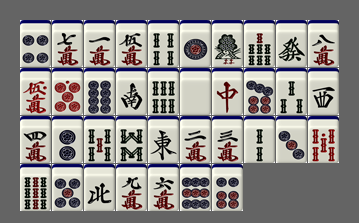0m: (20, 68, 51, 115)
0p: (52, 68, 83, 115)
0s: (308, 116, 339, 163)
1m: (84, 20, 115, 67)
1p: (180, 20, 211, 67)
1s: (212, 20, 243, 67)
1z: (148, 116, 179, 163)
2m: (180, 116, 211, 163)
2p: (52, 116, 83, 163)
2s: (244, 116, 275, 163)
2z: (116, 68, 147, 115)
3m: (212, 116, 243, 163)
3p: (276, 116, 307, 163)
3s: (276, 68, 307, 115)
3z: (308, 68, 339, 115)
4m: (20, 116, 51, 163)
4p: (20, 20, 51, 67)
4s: (148, 20, 179, 67)
4z: (84, 164, 115, 211)
5m: (116, 20, 147, 67)
5p: (52, 164, 83, 211)
5s: (84, 116, 115, 163)
5z: (180, 68, 211, 115)
6m: (148, 164, 179, 211)
6p: (212, 164, 243, 211)
6s: (148, 68, 179, 115)
6z: (276, 20, 307, 67)
7m: (52, 20, 83, 67)
7p: (244, 68, 275, 115)
7s: (244, 20, 275, 67)
7z: (212, 68, 243, 115)
8m: (308, 20, 339, 67)
8p: (84, 68, 115, 115)
8s: (116, 116, 147, 163)
9m: (116, 164, 147, 211)
9p: (180, 164, 211, 211)
9s: (20, 164, 51, 211)
